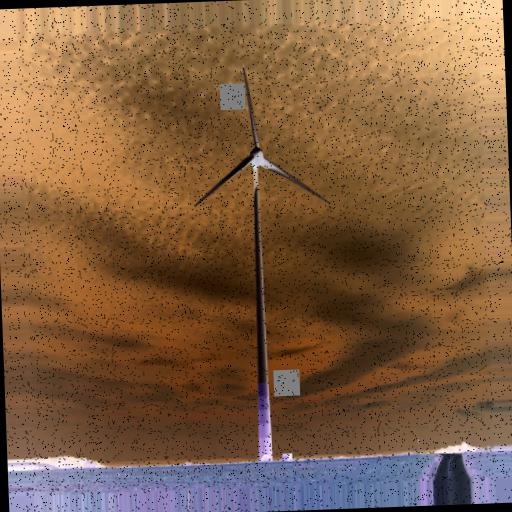wind turbine: (194, 68, 330, 463)
